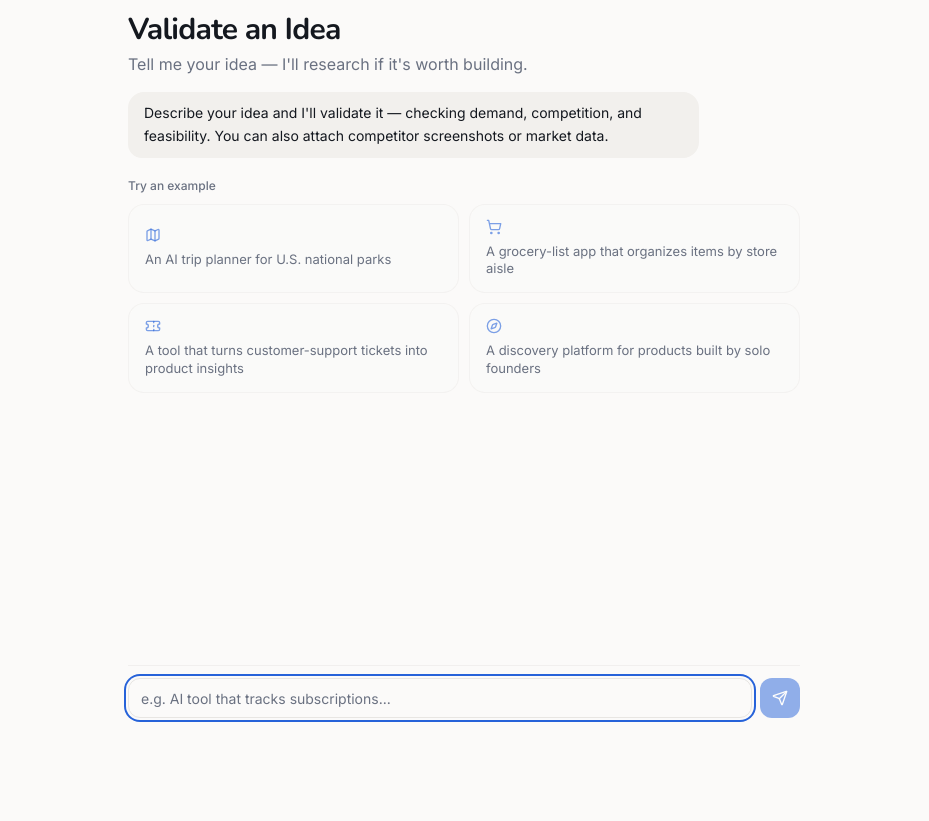
Test case: ValidateIdea NextStepCard › shows Skip primary stronger-direction label
Type "Park planner" into the field with placeholder "e.g. AI tool that tracks subscriptions..." at (440,698), box top-left (128, 678), bottom-right (752, 718)
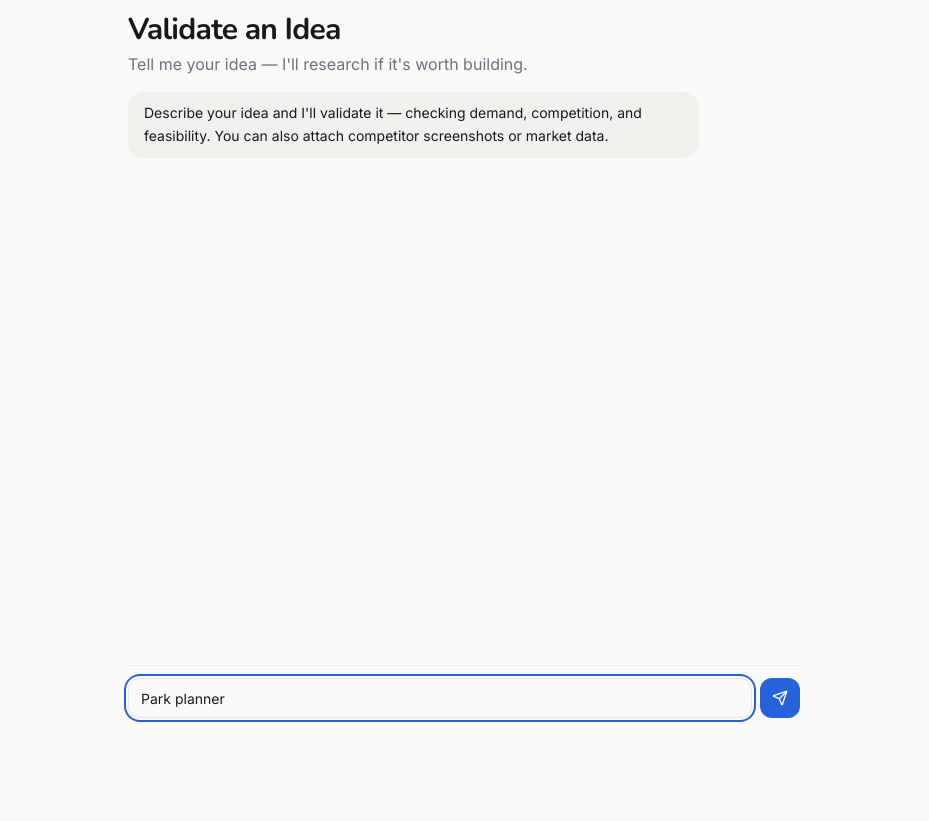
Press Enter
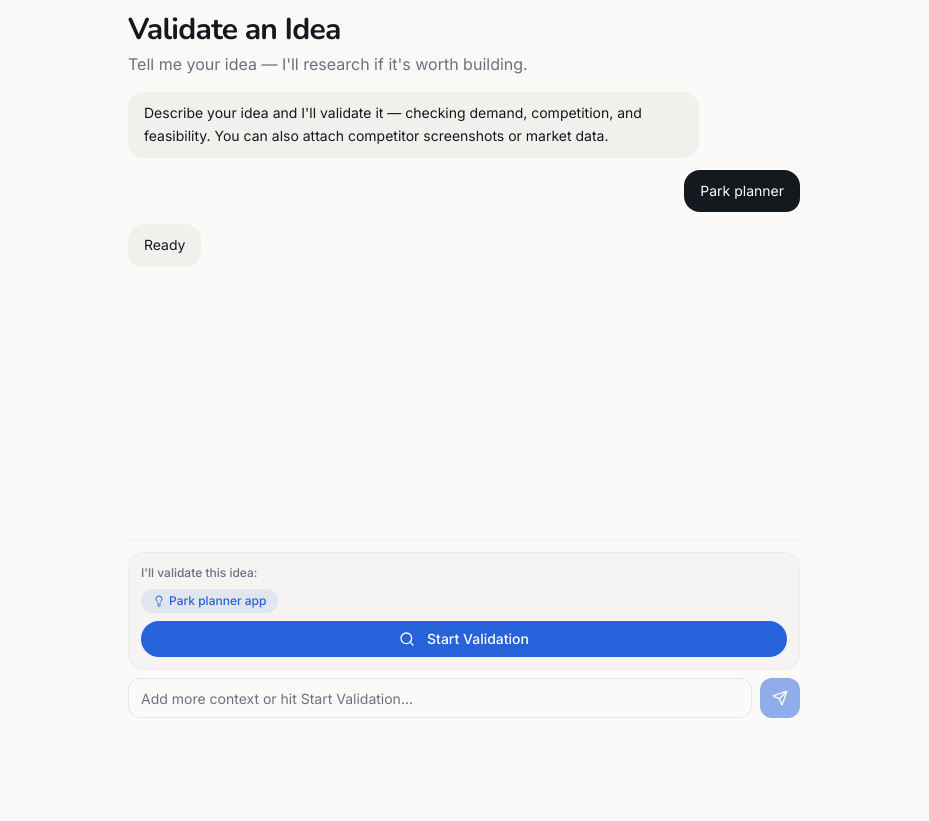
Expected: the button "Start Validation" is shown
Click the button "Start Validation" at (464,639), box top-left (141, 621), bottom-right (787, 657)
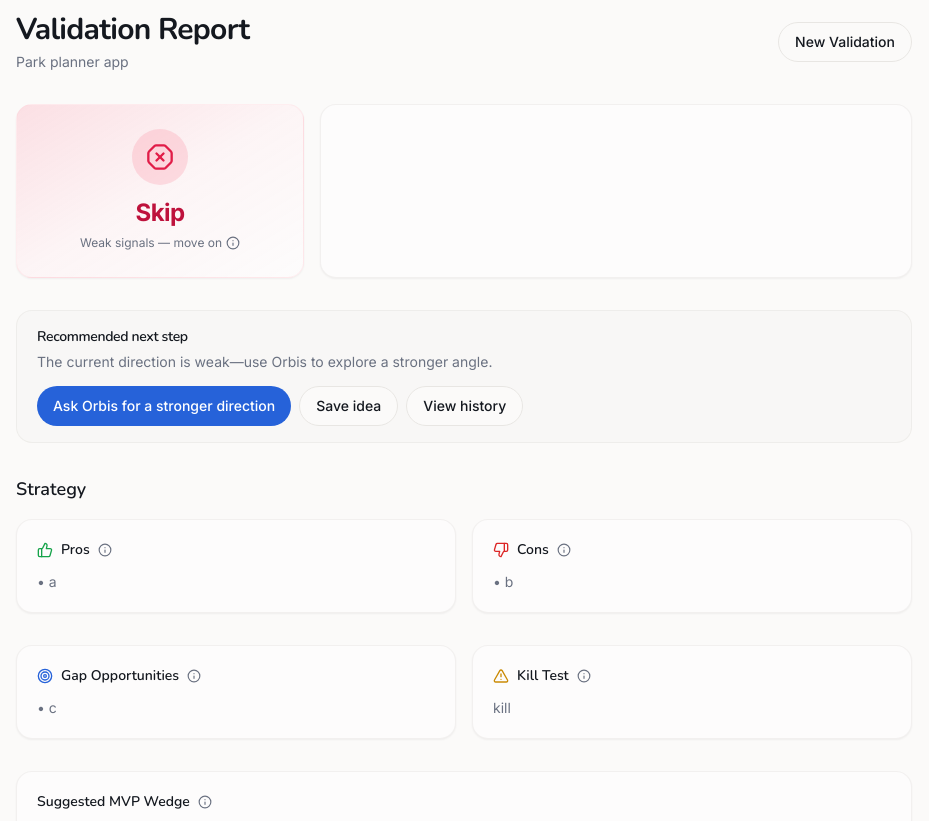
Expected: the heading "Recommended next step" is shown, top-left (37, 327), bottom-right (188, 346)
Expected: the button "Ask Orbis for a stronger direction" is shown, top-left (37, 386), bottom-right (291, 426)
